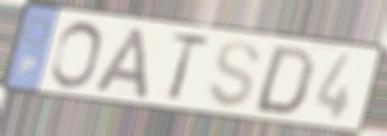4: (312, 49, 356, 125)
A: (91, 25, 151, 101)
D: (249, 44, 318, 118)
O: (48, 20, 105, 91)
S: (205, 38, 264, 111)
T: (165, 31, 212, 104)
